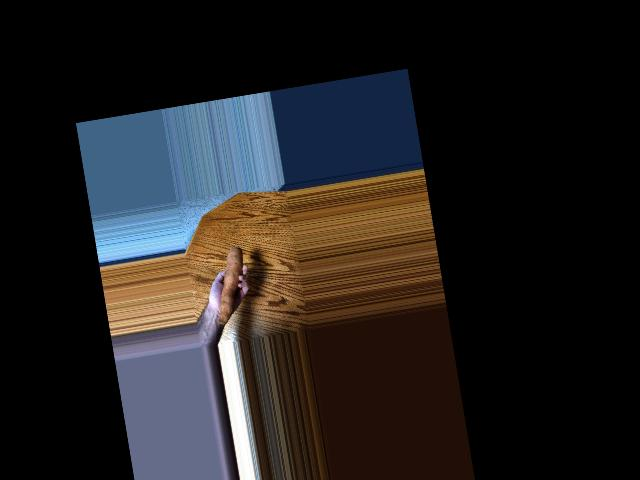sweet_potato: (206, 244, 254, 323)
